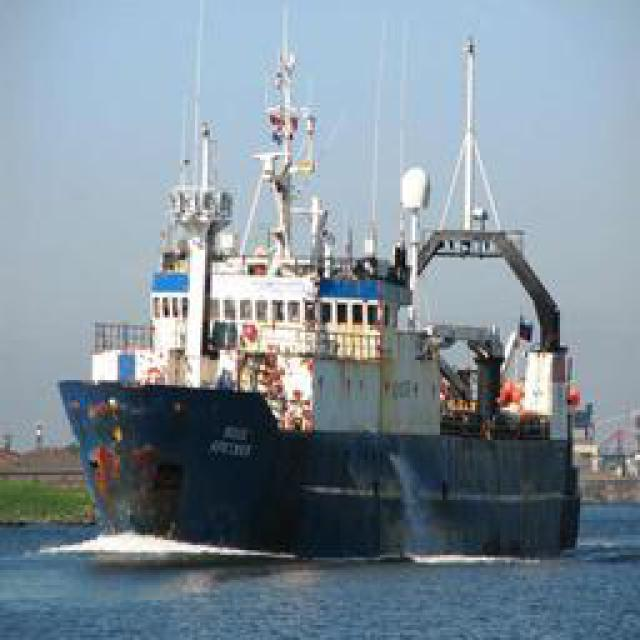Ship: (34, 1, 594, 559)
